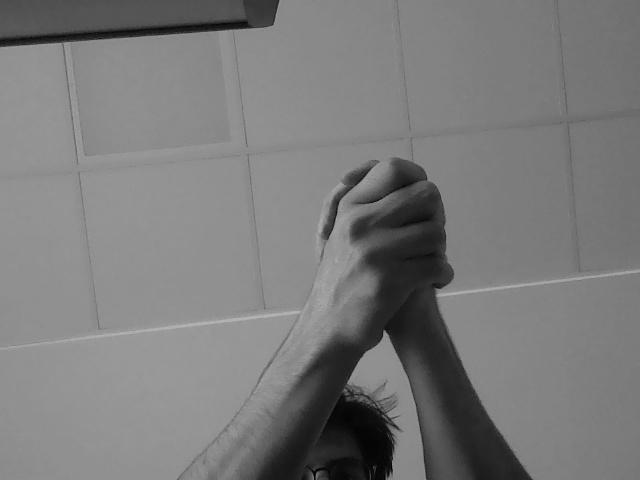friend: (304, 158, 454, 330)
